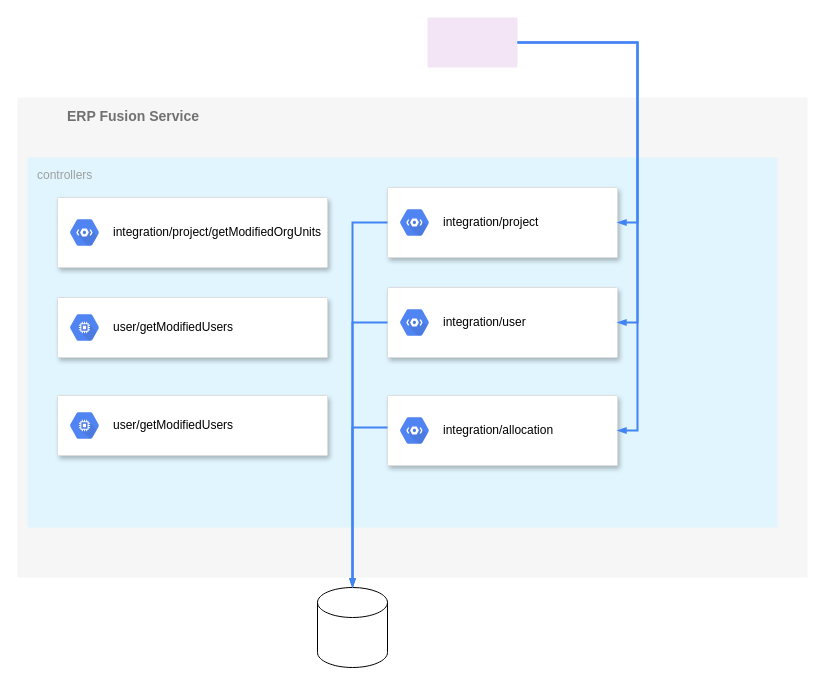
This 824x685 diagram has some shape labels left out. Each missing label, with the centre of its shape:
Logic App: the point at 472,42
org_data: the point at 352,627
